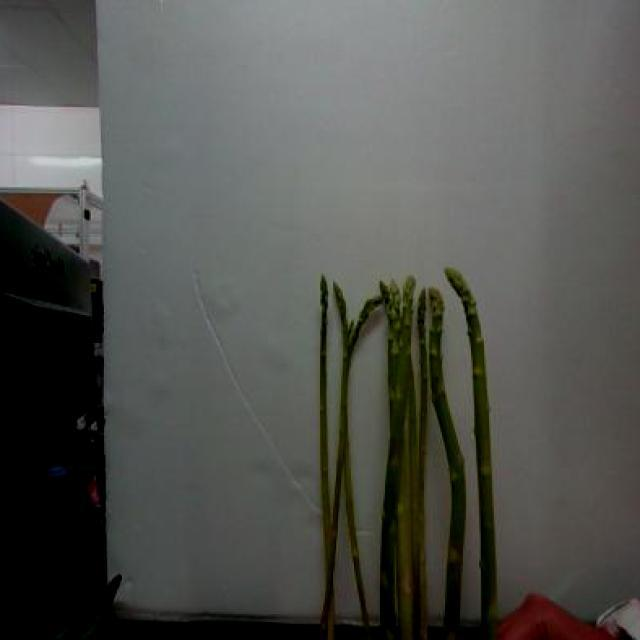aspargus: (446, 267, 498, 640), (426, 288, 466, 640)
